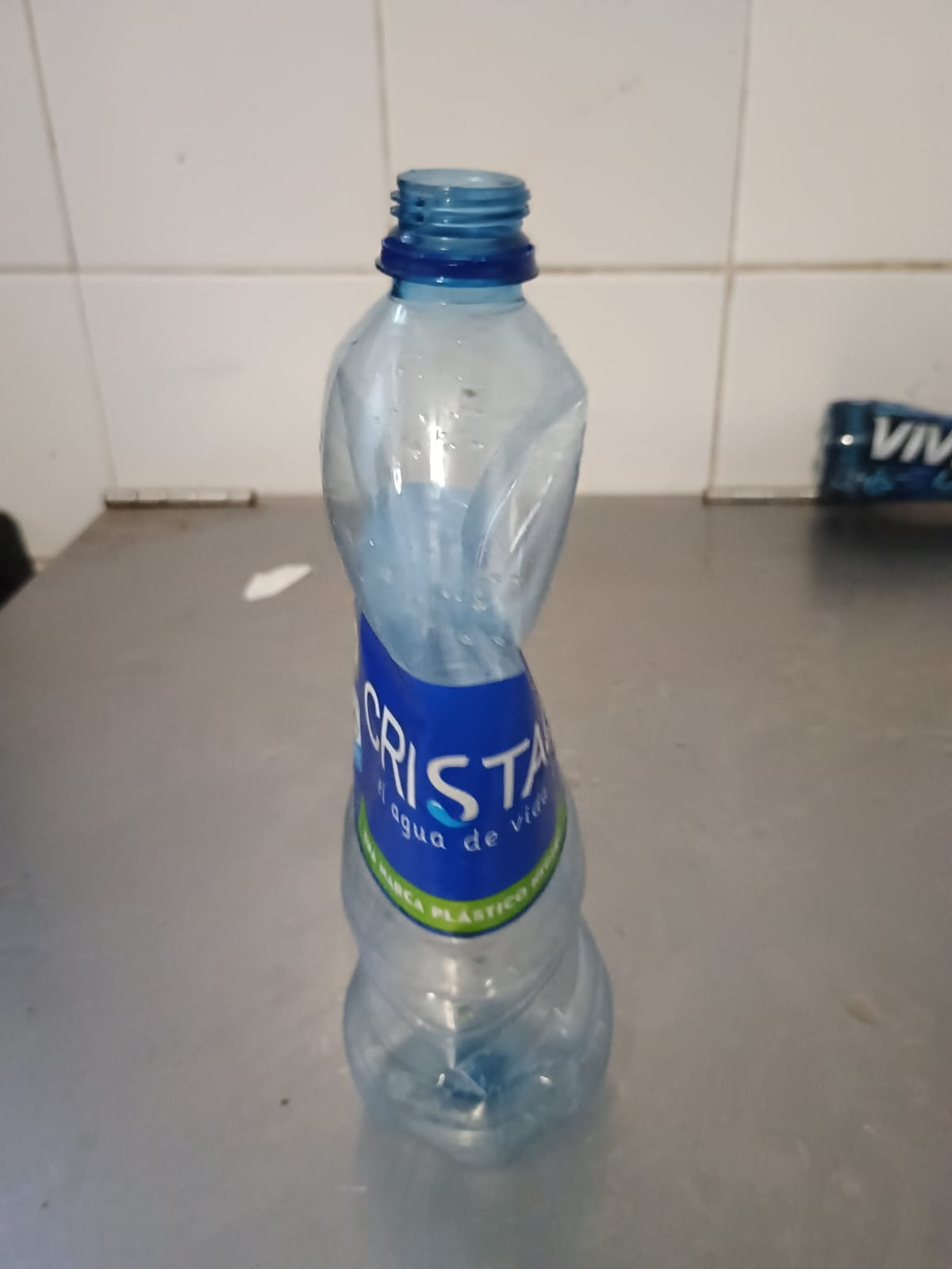Plastico: (317, 170, 614, 1170)
